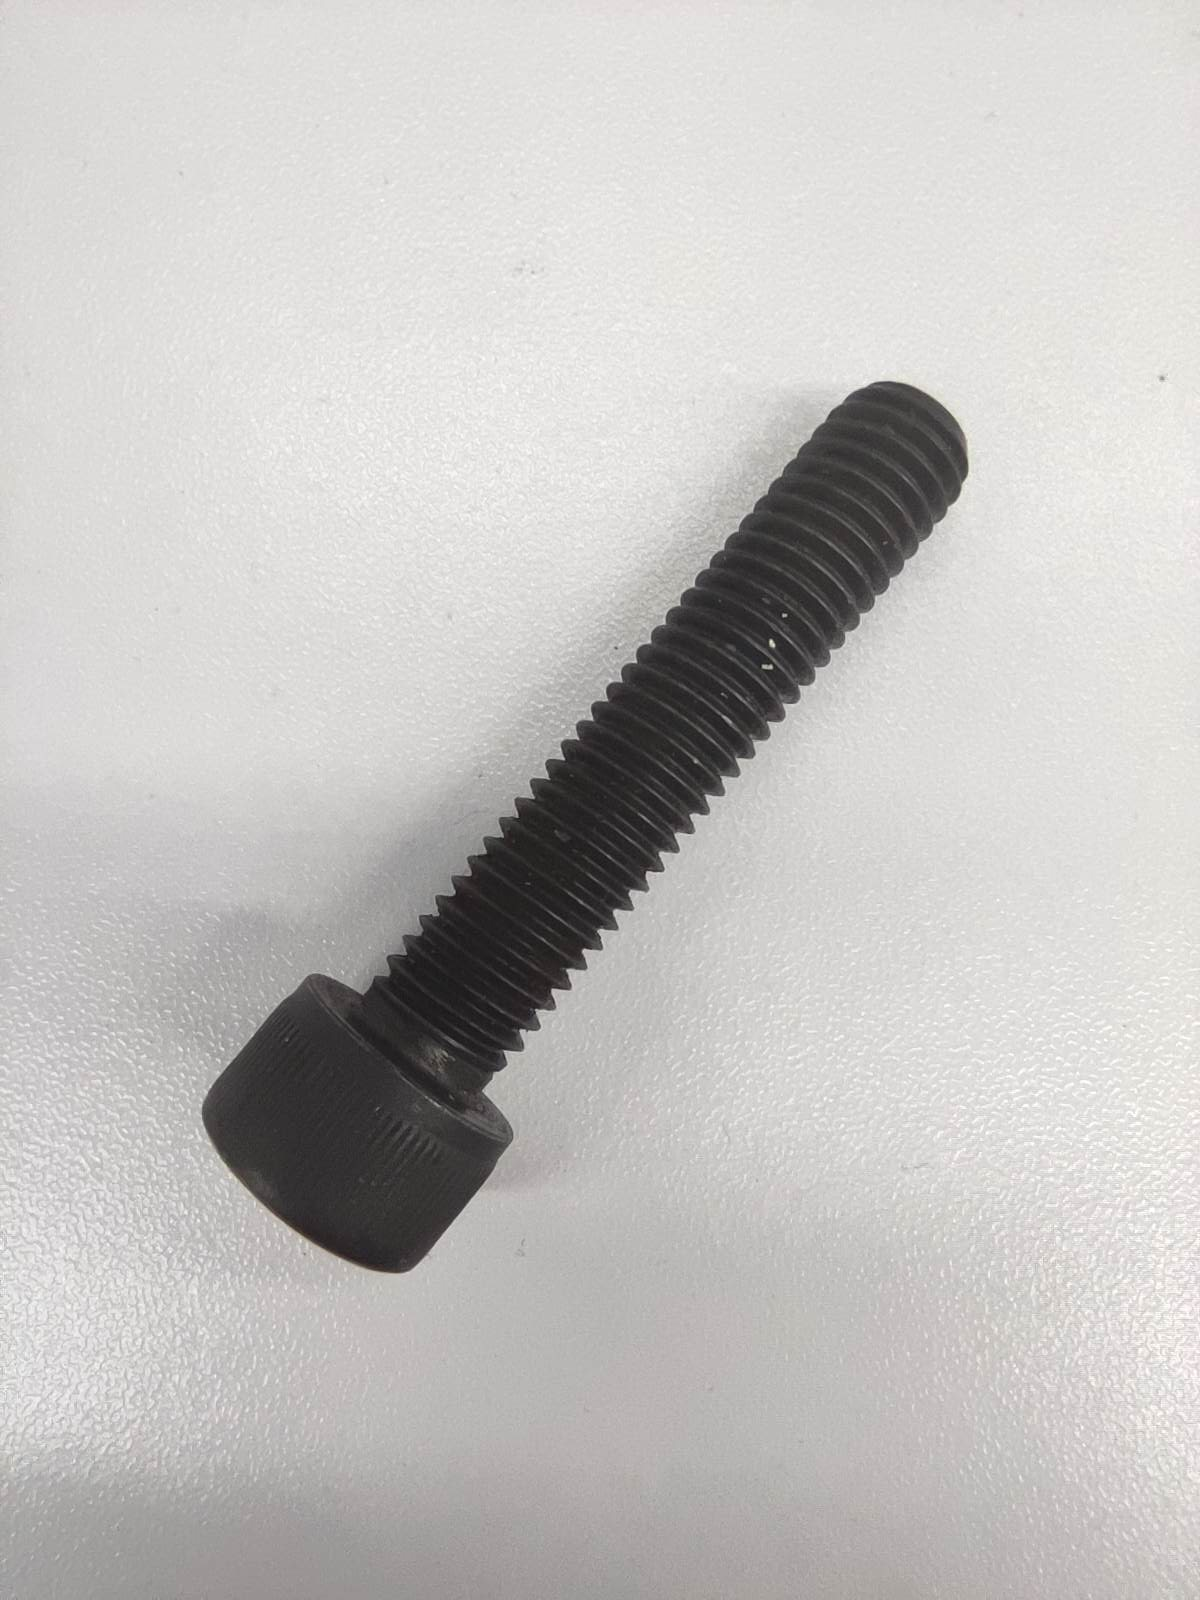螺钉: (200, 378, 971, 1272)
